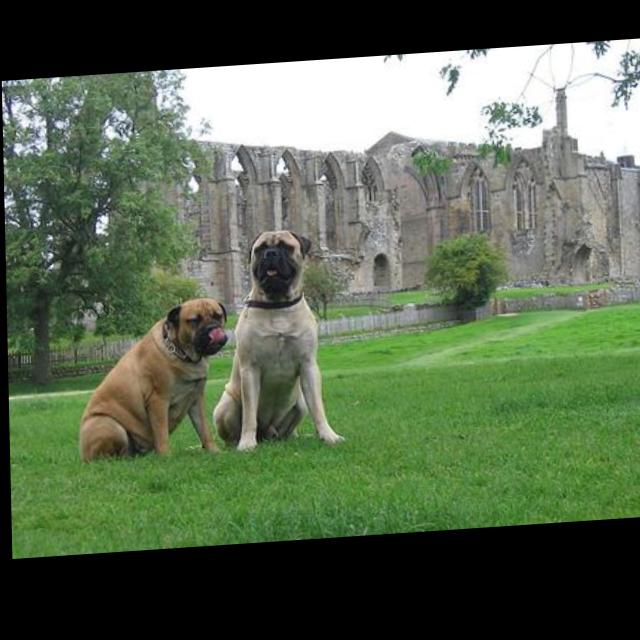bullmastiff: (210, 230, 345, 457), (77, 298, 231, 464)
